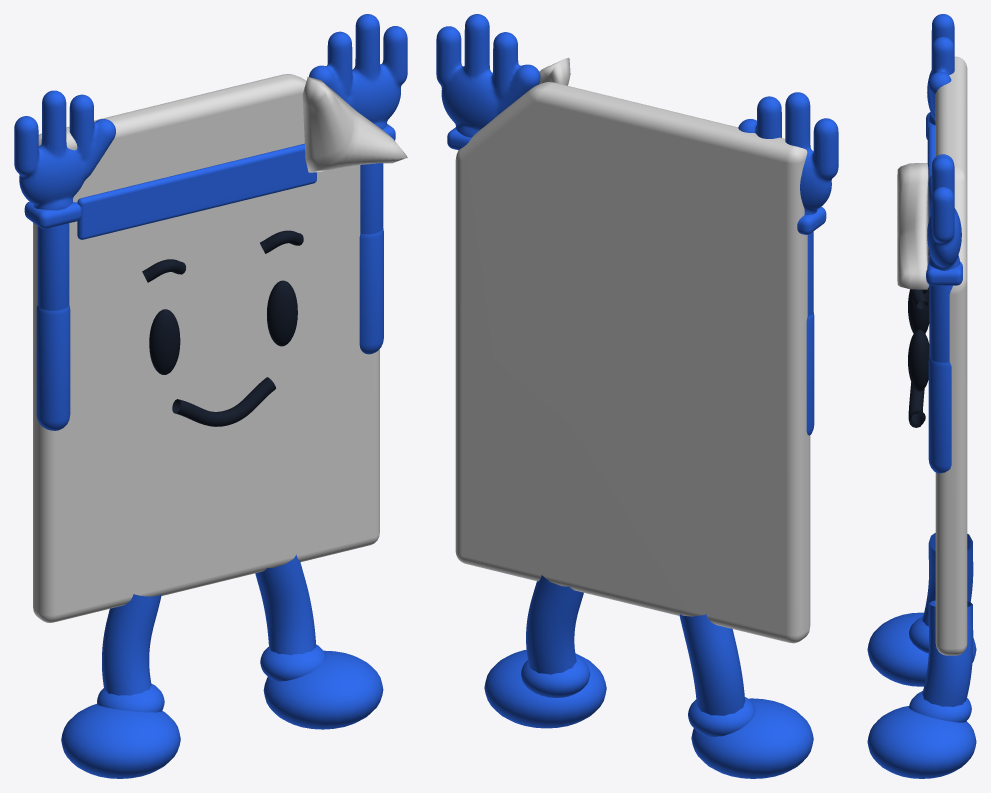
File: paper-pal.glb
3 renders of one model, left to right at view 1: azimuth 30°, elevation 25°; view 2: azimuth 150°, elevation 25°; view 3: azimuth 270°, elevation 25°, orthographic. The views are drawn at different scales.
Parts seen in each view (by area): view 1: PaperSheet, BlueHeader, LeftGlove, LeftBoot, RightGlove, RightBoot, CurledCorner, LeftLeg, RightLeg, LeftUpperArm, RightUpperArm, LeftForearm (+7 smaller); view 2: PaperSheet, RightGlove, LeftBoot, LeftGlove, RightBoot, LeftLeg, RightLeg, RightCuff, LeftCuff, LeftUpperArm; view 3: PaperSheet, RightBoot, CurledCorner, RightGlove, LeftBoot, RightLeg, RightUpperArm, LeftGlove, RightForearm, EyeRight, LeftLeg, RightCuff (+6 smaller).
Boxes of the visible parts, x1,y1,x2,y2 form: PaperSheet: (33, 74, 379, 622); BlueHeader: (77, 143, 316, 239); LeftGlove: (14, 90, 115, 210); LeftBoot: (61, 704, 180, 778); RightGlove: (309, 14, 407, 129); RightBoot: (263, 650, 383, 729); CurledCorner: (302, 77, 407, 172); LeftLeg: (102, 594, 161, 695); RightLeg: (255, 554, 316, 655); LeftUpperArm: (36, 305, 70, 430); RightUpperArm: (359, 228, 383, 354); LeftForearm: (37, 223, 69, 310); PaperSheet: (455, 82, 810, 643); RightGlove: (436, 14, 540, 137); LeftBoot: (691, 698, 813, 778); LeftGlove: (738, 92, 838, 215); RightBoot: (484, 649, 606, 728); LeftLeg: (679, 614, 745, 715); RightLeg: (526, 575, 583, 674); RightCuff: (521, 655, 590, 697); LeftCuff: (688, 697, 755, 736); LeftUpperArm: (806, 312, 814, 435); PaperSheet: (935, 56, 967, 655); RightBoot: (867, 706, 976, 778); CurledCorner: (897, 163, 928, 289); RightGlove: (927, 154, 961, 270); LeftBoot: (867, 612, 976, 686); RightLeg: (922, 600, 973, 706); RightUpperArm: (928, 357, 951, 473); LeftGlove: (927, 14, 954, 125); RightForearm: (929, 285, 952, 362); EyeRight: (908, 329, 929, 391); LeftLeg: (922, 533, 973, 626); RightCuff: (909, 691, 971, 722).
Size of the model in its own units: 1.19 by 2 by 0.31.
